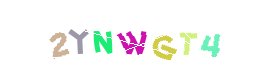2: (33, 0, 113, 80)
4: (157, 0, 237, 80)
G: (123, 0, 203, 80)
N: (92, 0, 172, 80)
T: (143, 0, 223, 80)
W: (93, 0, 173, 80)
Y: (63, 0, 143, 80)
